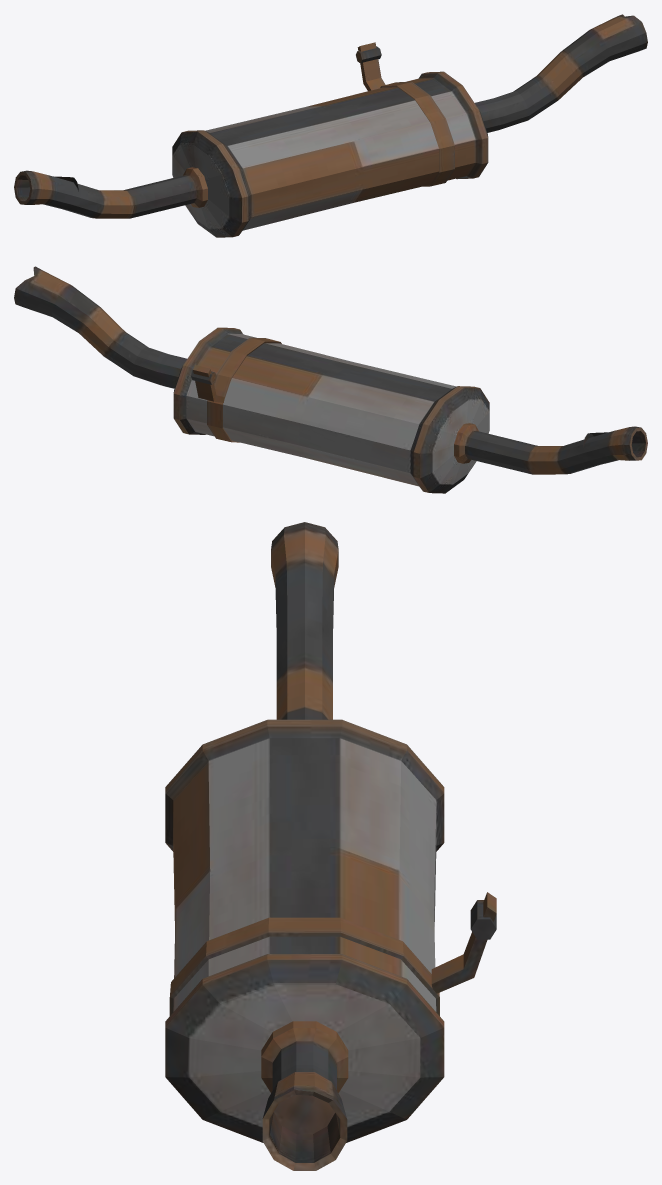
File: JV22_exhaust_pipe.glb
3 renders of one model, top to bottom at view 1: azimuth 30°, elevation 25°; view 2: azimuth 150°, elevation 25°; view 3: azimuth 270°, elevation 25°, orthographic. The views are drawn at different scales.
Visible parts, largest first — view 1: Exhaust pipe; view 2: Exhaust pipe; view 3: Exhaust pipe.
Boxes of the visible parts, bbox=[...] form: Exhaust pipe: bbox=[14, 14, 647, 237]; Exhaust pipe: bbox=[14, 266, 647, 493]; Exhaust pipe: bbox=[165, 522, 496, 1170].
Bounding box in the file's own units: 1.2 × 0.2109 × 0.278.
Materials: 4 (4 with a texture image).
